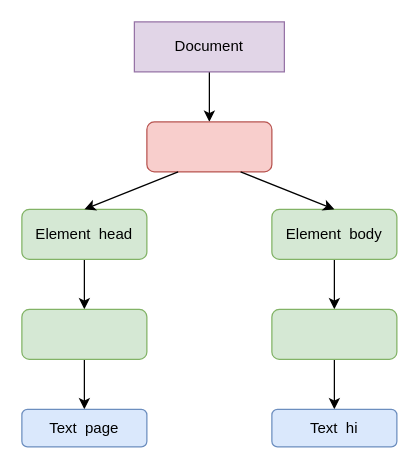
Some shapes in this 419 by 469 pixel diagram are drawn without their labels. Each missing label, with the centre of its shape:
"Element html" belongs at point (209, 146).
"Element p" belongs at point (334, 333).
"Element title" belongs at point (84, 333).
